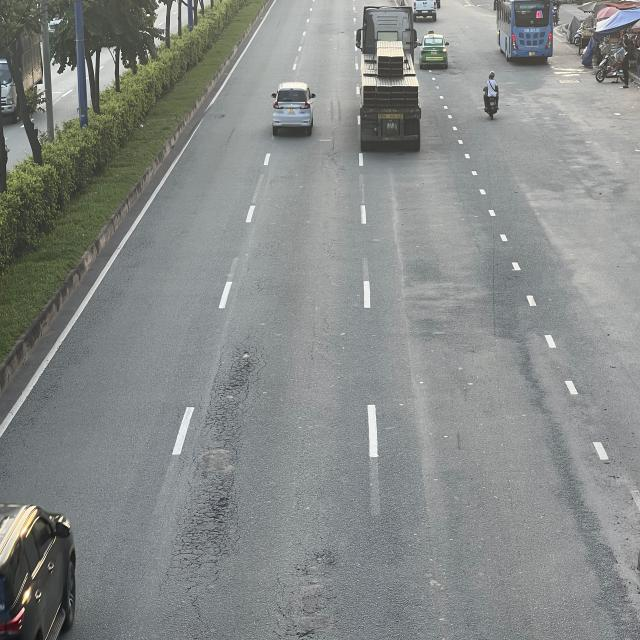car: (0, 501, 76, 639), (271, 80, 316, 132), (419, 32, 451, 68), (0, 57, 17, 119)
coach: (495, 0, 556, 59)
container: (353, 6, 421, 153)
